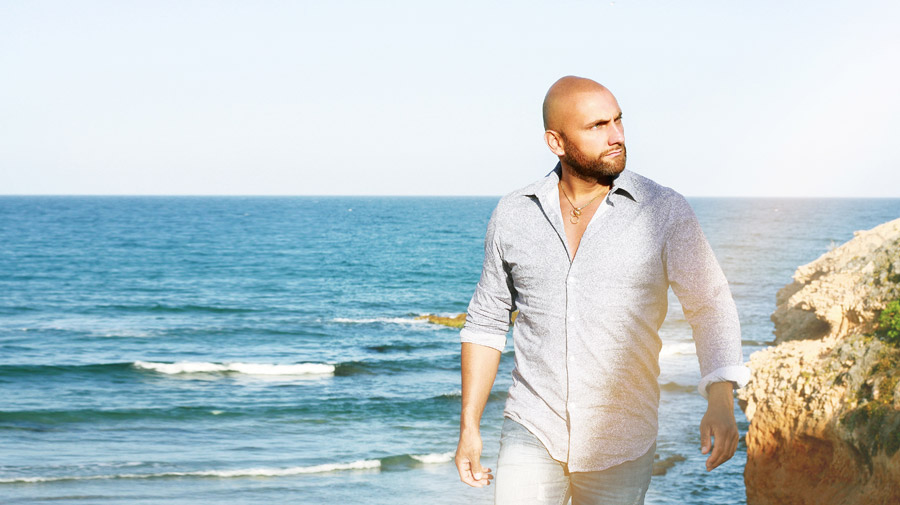male: (454, 74, 741, 505)
